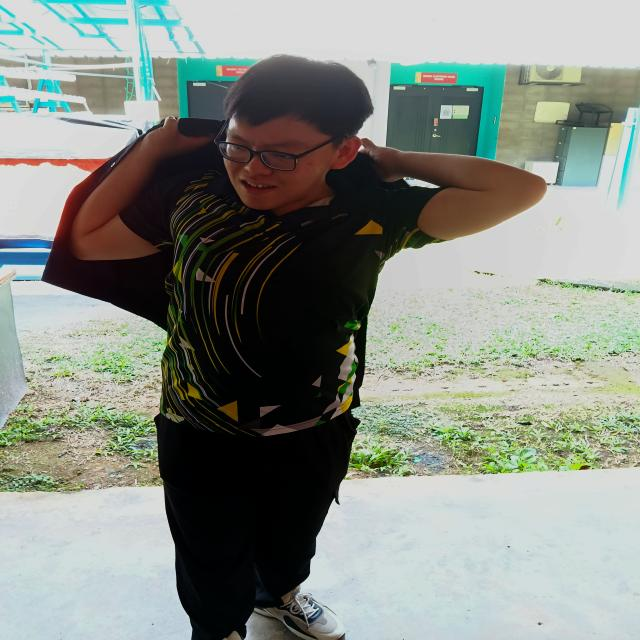person_without_labcoat: (43, 55, 546, 640)
